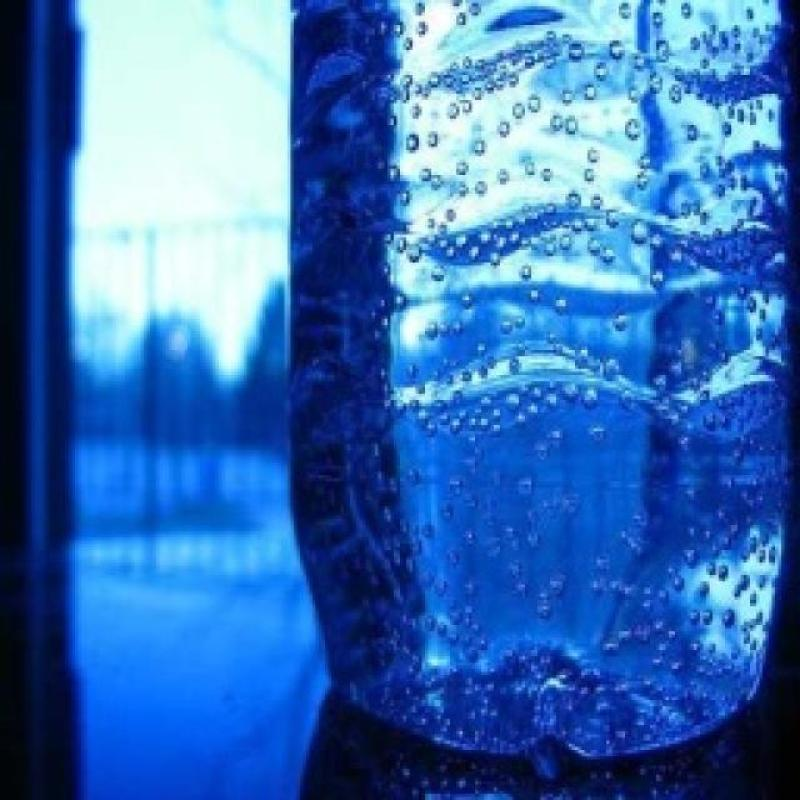botella: (288, 0, 794, 756)
